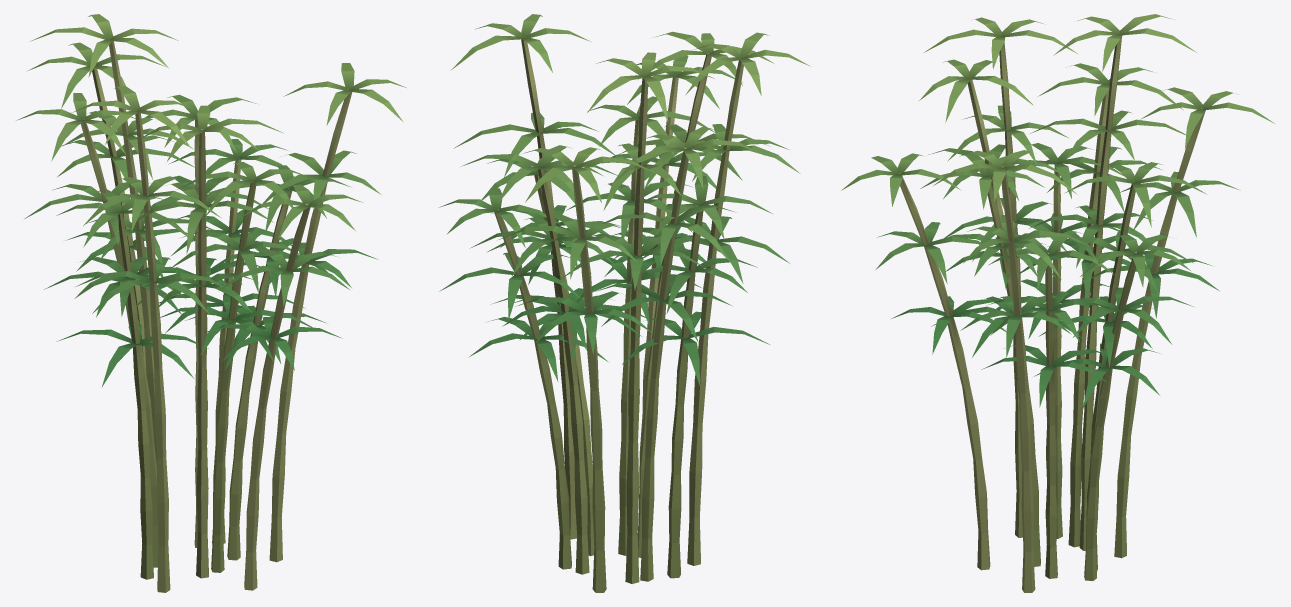
The model's file is bamboo_lod0.glb.
The picture shows the model from 3 angles, left to right: view 1: azimuth 30°, elevation 25°; view 2: azimuth 150°, elevation 25°; view 3: azimuth 270°, elevation 25°; orthographic projection. The views are drawn at different scales.
Visible parts, largest first — view 1: bamboo_lod0; view 2: bamboo_lod0; view 3: bamboo_lod0.
Boxes of the visible parts, left/top/right/bottom form: bamboo_lod0: left=16, top=14, right=406, bottom=592; bamboo_lod0: left=438, top=14, right=810, bottom=592; bamboo_lod0: left=841, top=14, right=1274, bottom=592.
Bounding box in the file's own units: 5.02 × 7.7 × 6.02.
